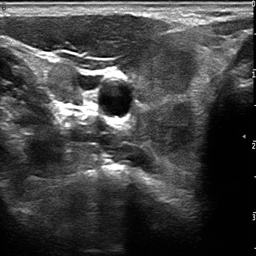mass: (137, 45, 198, 154)
